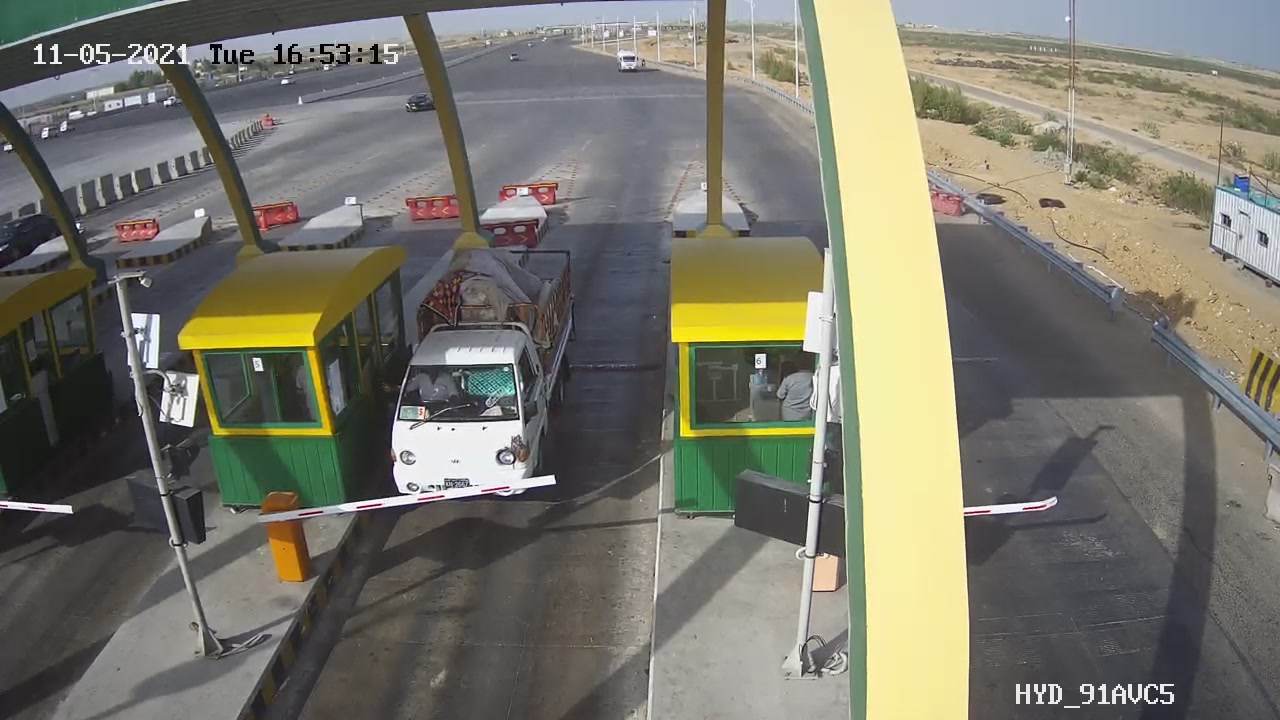F2: (371, 232, 597, 520)
